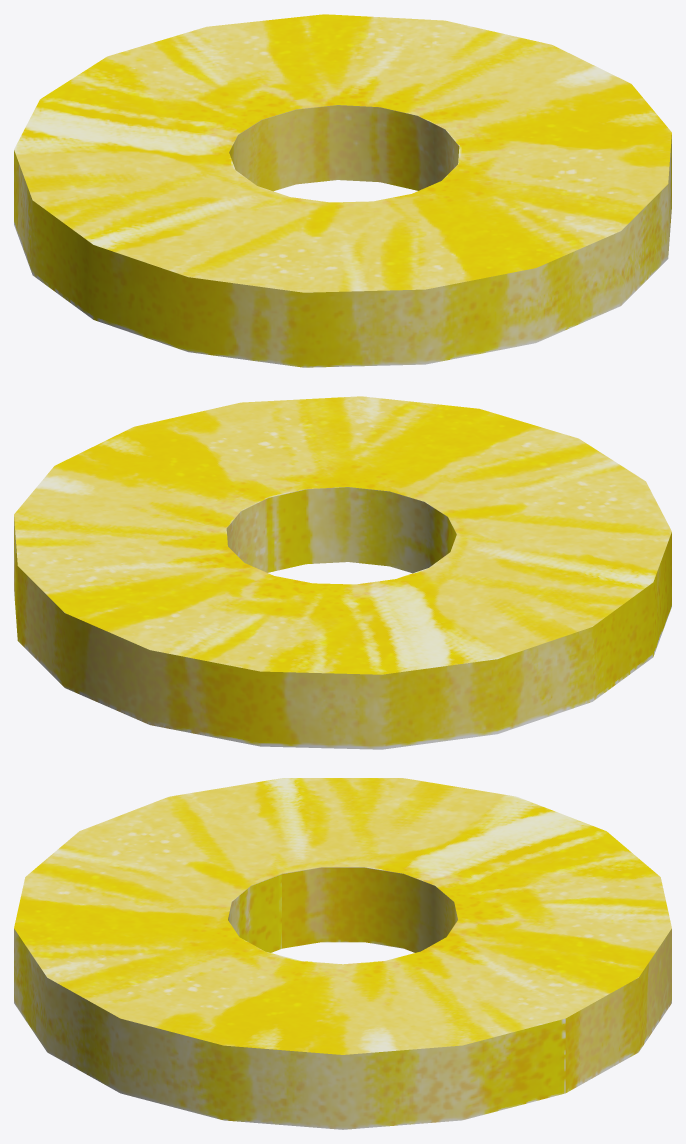
The model's file is pineapple.fbx.
3 renders of one model, top to bottom at view 1: azimuth 30°, elevation 25°; view 2: azimuth 150°, elevation 25°; view 3: azimuth 270°, elevation 25°, orthographic.
Visible parts, largest first — view 1: Tube; view 2: Tube; view 3: Tube.
Boxes of the visible parts, <box> form: Tube: <box>14,14,671,367</box>; Tube: <box>14,396,671,749</box>; Tube: <box>14,778,671,1129</box>.
Bounding box in the file's own units: 397 × 50 × 398.
